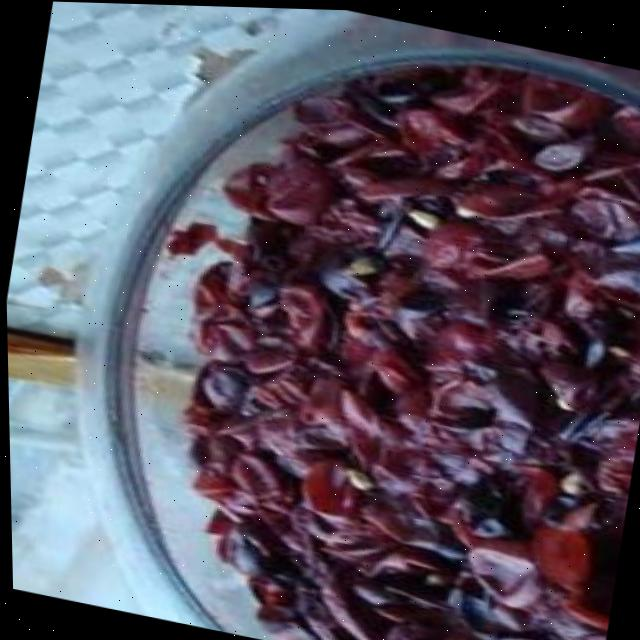Wet: (90, 2, 640, 640)
